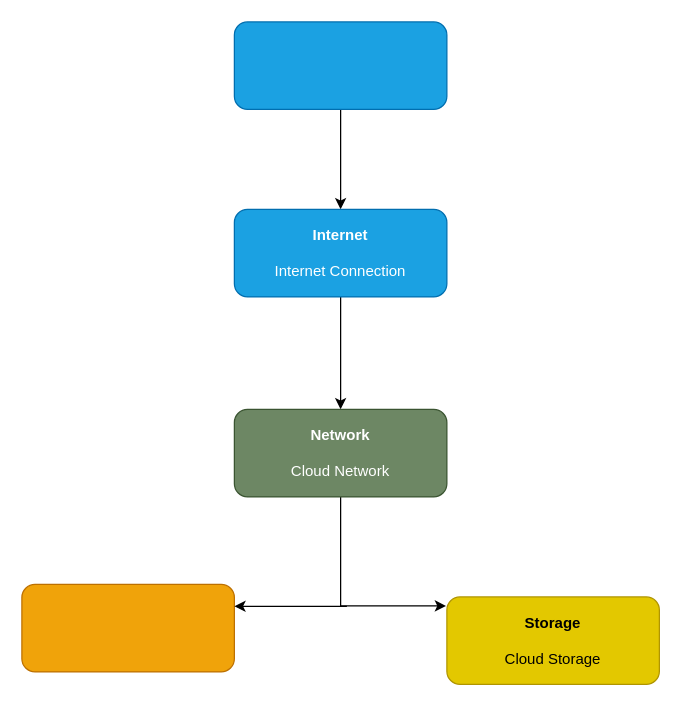
This 681x706 diagram has some shape labels left out. Each missing label, with the centre of its shape:
"Compute Linux Server / Virtual Machines" belongs at [127,627].
"User Cloud User" belongs at [340,65].
